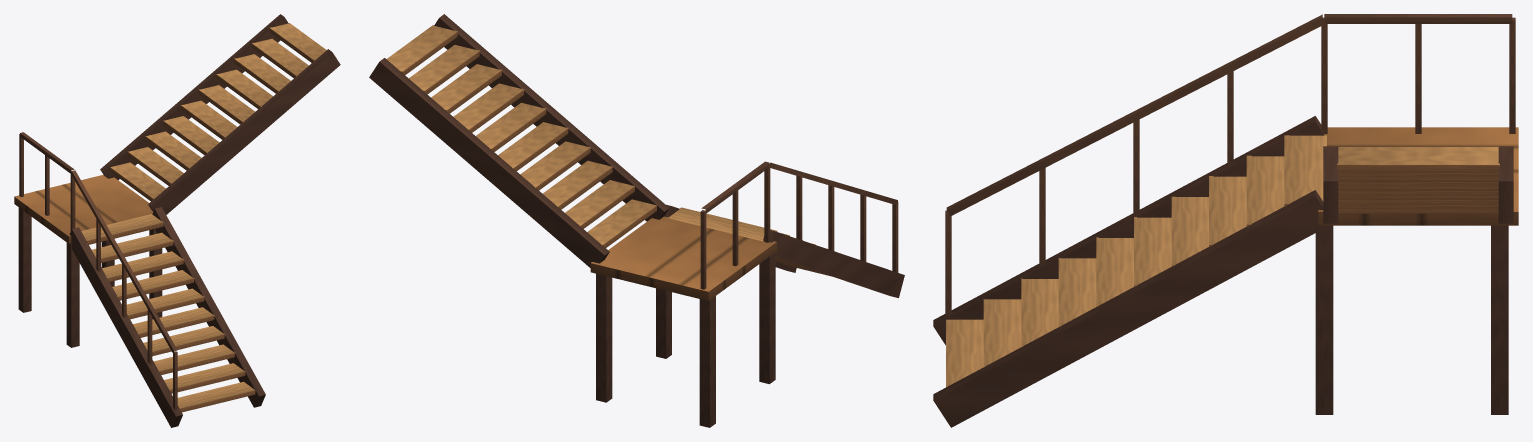
File: stairs_wood_02.glb
3 renders of one model, left to right at view 1: azimuth 30°, elevation 25°; view 2: azimuth 150°, elevation 25°; view 3: azimuth 270°, elevation 25°, orthographic. The views are drawn at different scales.
Parts seen in each view (by area): view 1: stairs_wood_02; view 2: stairs_wood_02; view 3: stairs_wood_02.
Part boxes in pixels (x1,y1,x2,y2): stairs_wood_02: (14, 14, 340, 427); stairs_wood_02: (369, 14, 904, 427); stairs_wood_02: (933, 14, 1518, 427).
Bounding box in the file's own units: 4.62 × 3.84 × 4.67.
Materials: 1 (1 with a texture image).
